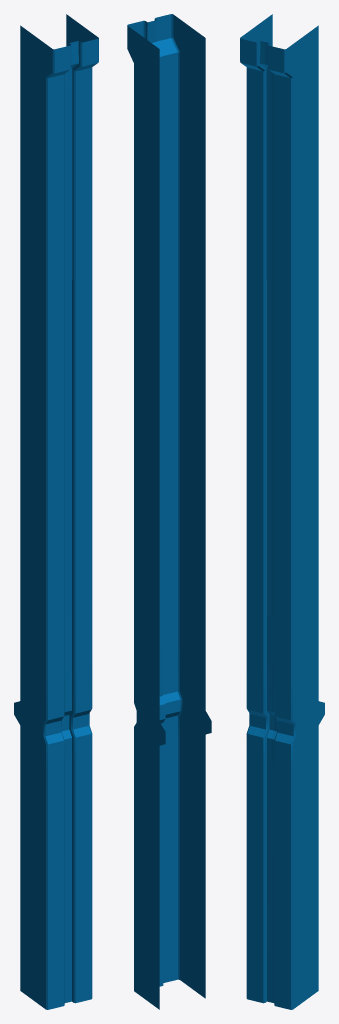
File: M_Wall_Seperator_1x20.fbx
3 renders of one model, left to right at view 1: azimuth 30°, elevation 25°; view 2: azimuth 210°, elevation 25°; view 3: azimuth 330°, elevation 25°, orthographic.
Parts seen in each view (by area): view 1: Wall_Seperator_1x20m; view 2: Wall_Seperator_1x20m; view 3: Wall_Seperator_1x20m.
Boxes of the visible parts, <box> form: Wall_Seperator_1x20m: <box>14,14,98,1009</box>; Wall_Seperator_1x20m: <box>127,14,211,1009</box>; Wall_Seperator_1x20m: <box>240,14,324,1009</box>.
Bounding box in the file's own units: 100 × 2000 × 148.
